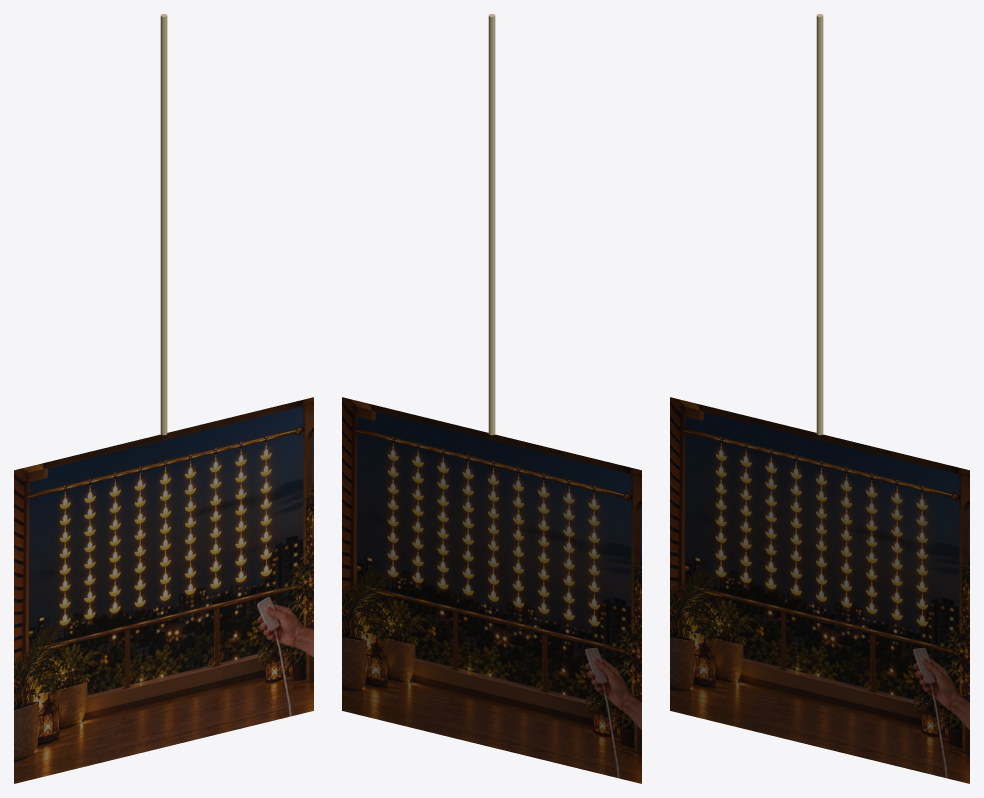
File: B0FGVLCPF3.glb
3 renders of one model, left to right at view 1: azimuth 30°, elevation 25°; view 2: azimuth 150°, elevation 25°; view 3: azimuth 330°, elevation 25°, orthographic.
Parts seen in each view (by area): view 1: photo, string; view 2: photo, string; view 3: photo, string.
Boxes of the visible parts, <box> form: photo: <box>14,397,313,783</box>; string: <box>160,14,167,435</box>; photo: <box>342,397,641,783</box>; string: <box>488,14,495,435</box>; photo: <box>670,397,969,783</box>; string: <box>816,14,823,435</box>.
Bounding box in the file's own units: 0.3 × 0.7 × 0.006.
1 material, 1 textured.
